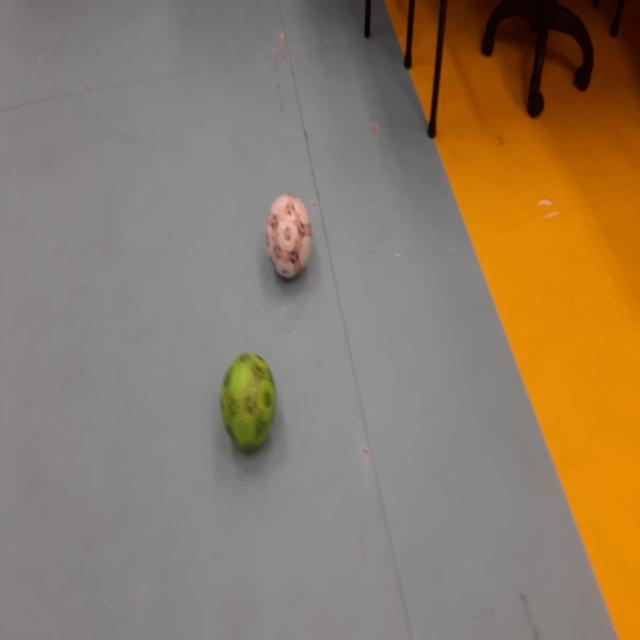ball: (222, 353, 276, 452), (265, 194, 311, 282)
